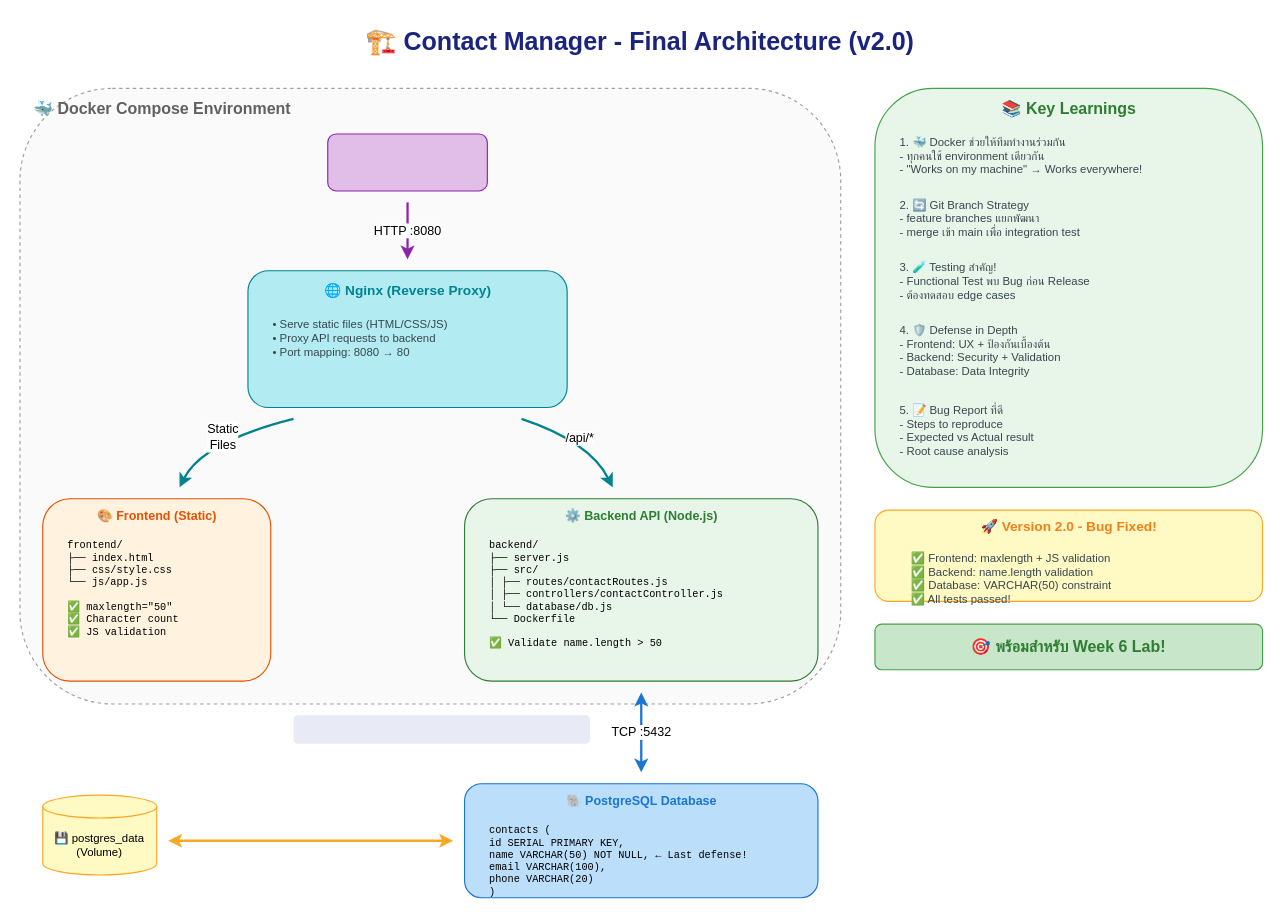
The diagram is 1283 pixels wide and 919 high, and some of its shapes have lost their labels. Each missing label, with the centre of its shape:
"🌐 Browser localhost:8080" goes at (x=407, y=162).
"🌐 Docker Network (contact-manager_default)" goes at (x=441, y=729).
